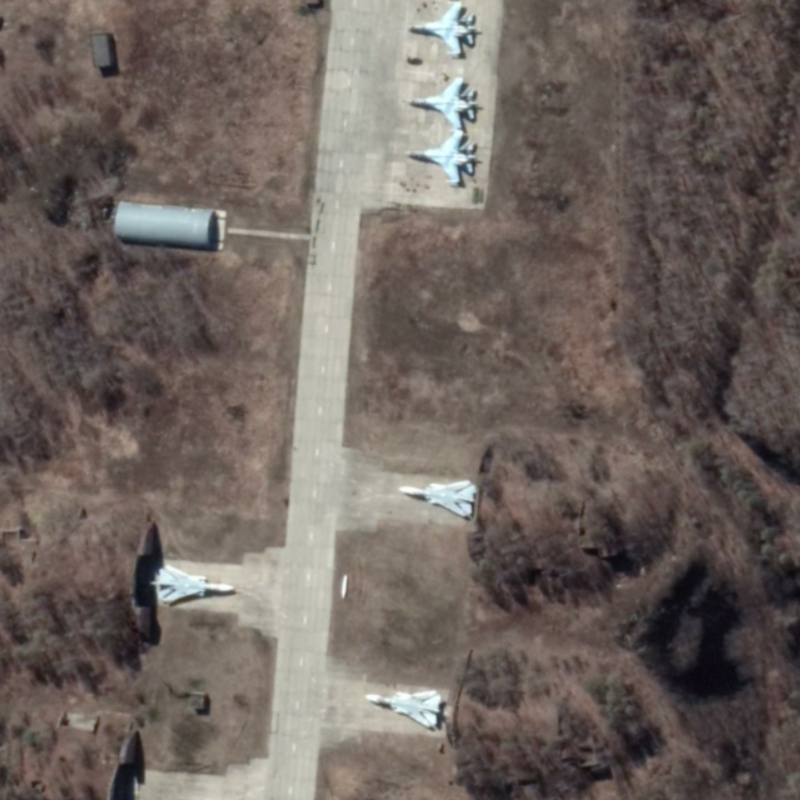A1: (404, 127, 478, 185), (403, 75, 480, 130), (408, 1, 480, 57)
A20: (397, 478, 478, 519), (156, 563, 235, 604), (363, 689, 443, 728)
